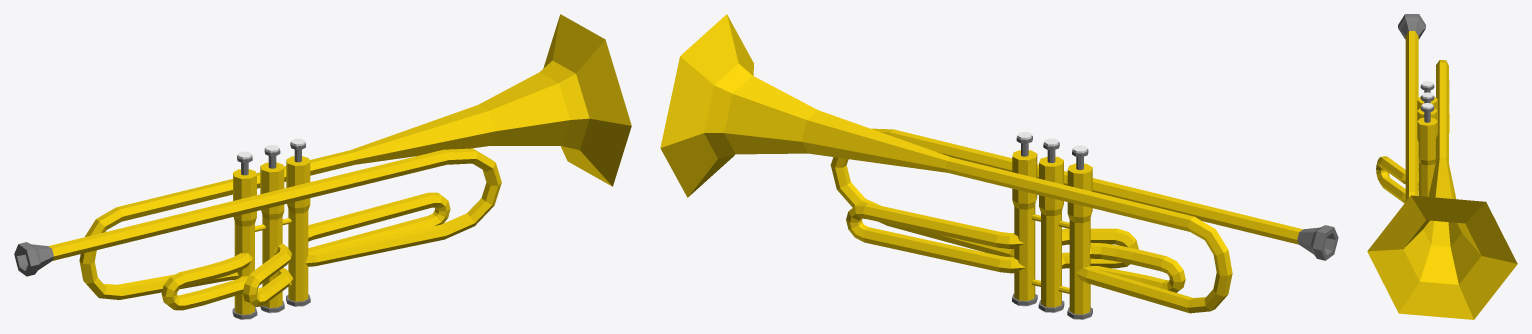
Rendered from TrumpetLowerPoly.fbx.
3 renders of one model, left to right at view 1: azimuth 30°, elevation 25°; view 2: azimuth 150°, elevation 25°; view 3: azimuth 270°, elevation 25°, orthographic. The views are drawn at different scales.
Visible parts, largest first — view 1: Cylinder; view 2: Cylinder; view 3: Cylinder.
Part boxes in pixels (left/top/right/bottom): Cylinder: left=14, top=14, right=631, bottom=319; Cylinder: left=660, top=14, right=1338, bottom=319; Cylinder: left=1367, top=14, right=1517, bottom=319.
Bounding box in the file's own units: 53 × 17.2 × 14.27.
